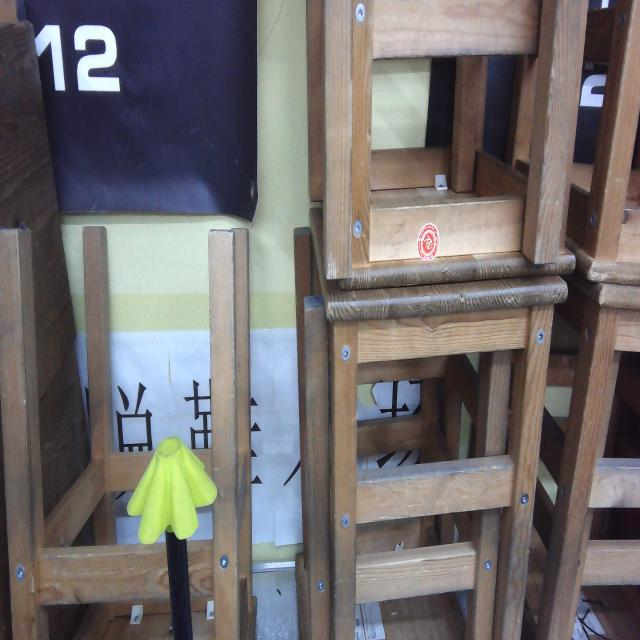Yellow-Stake-Head: (126, 436, 218, 546)
